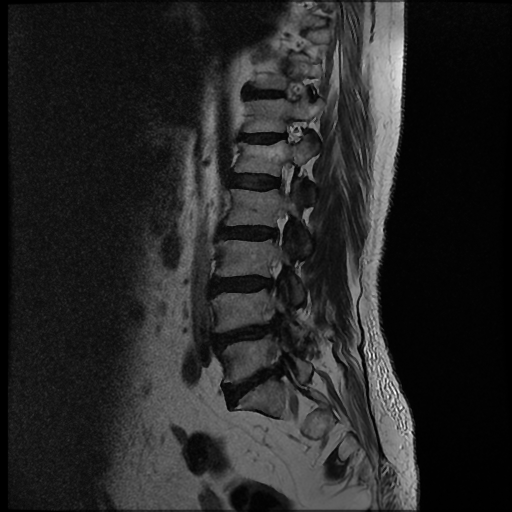RFS0: (258, 154, 307, 203)
